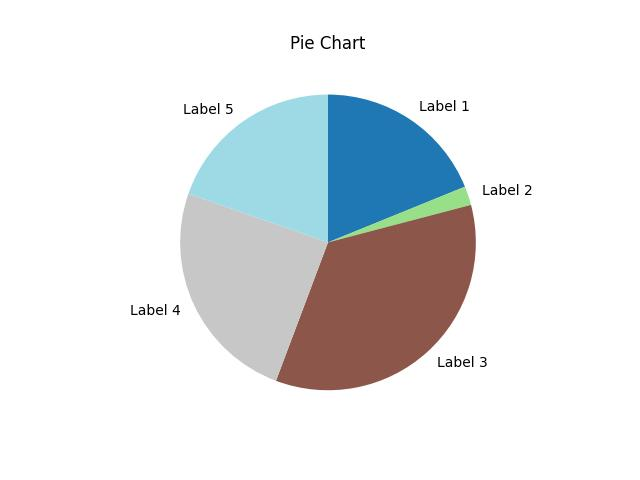sector: (277, 205, 477, 390), (177, 193, 329, 381), (186, 93, 329, 243), (327, 92, 465, 240), (331, 185, 471, 241)
